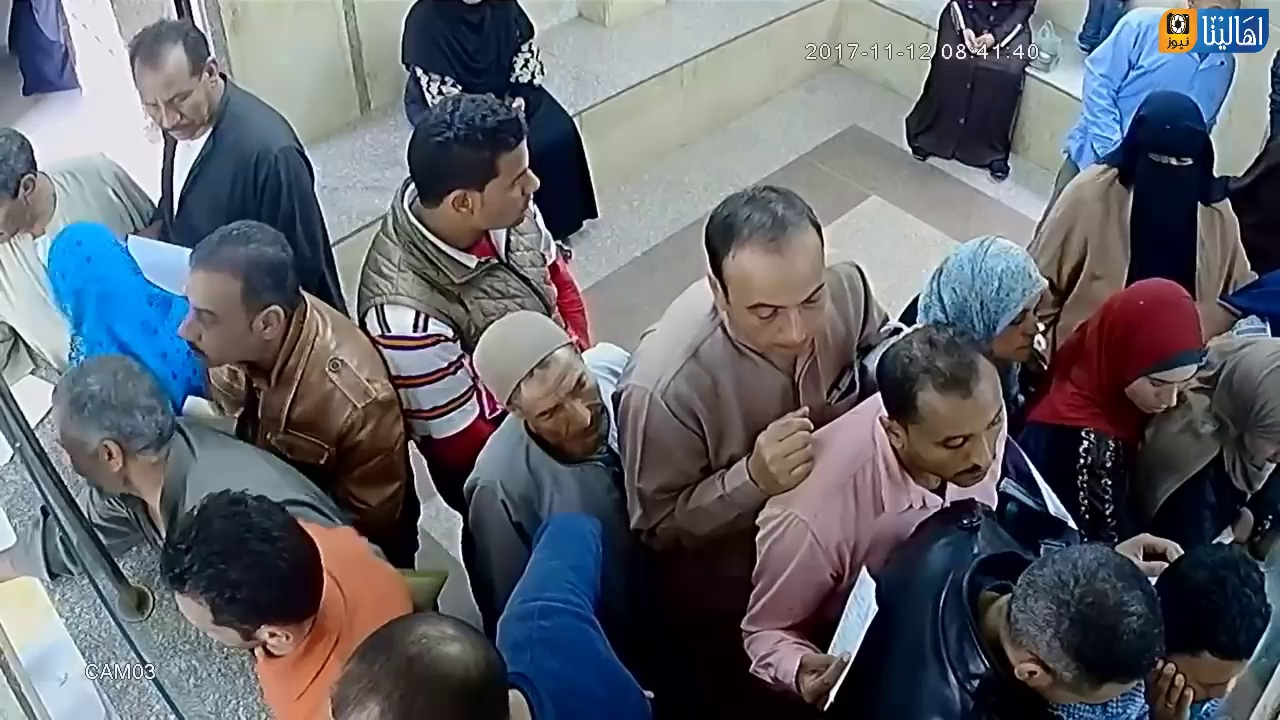face: (725, 251, 823, 358), (909, 381, 1003, 488), (174, 259, 249, 373), (136, 60, 203, 142), (478, 153, 538, 232), (1131, 352, 1188, 421), (1146, 136, 1198, 201), (997, 287, 1039, 360)
